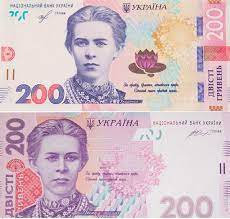bn_200: (1, 0, 230, 111), (2, 113, 229, 219)
